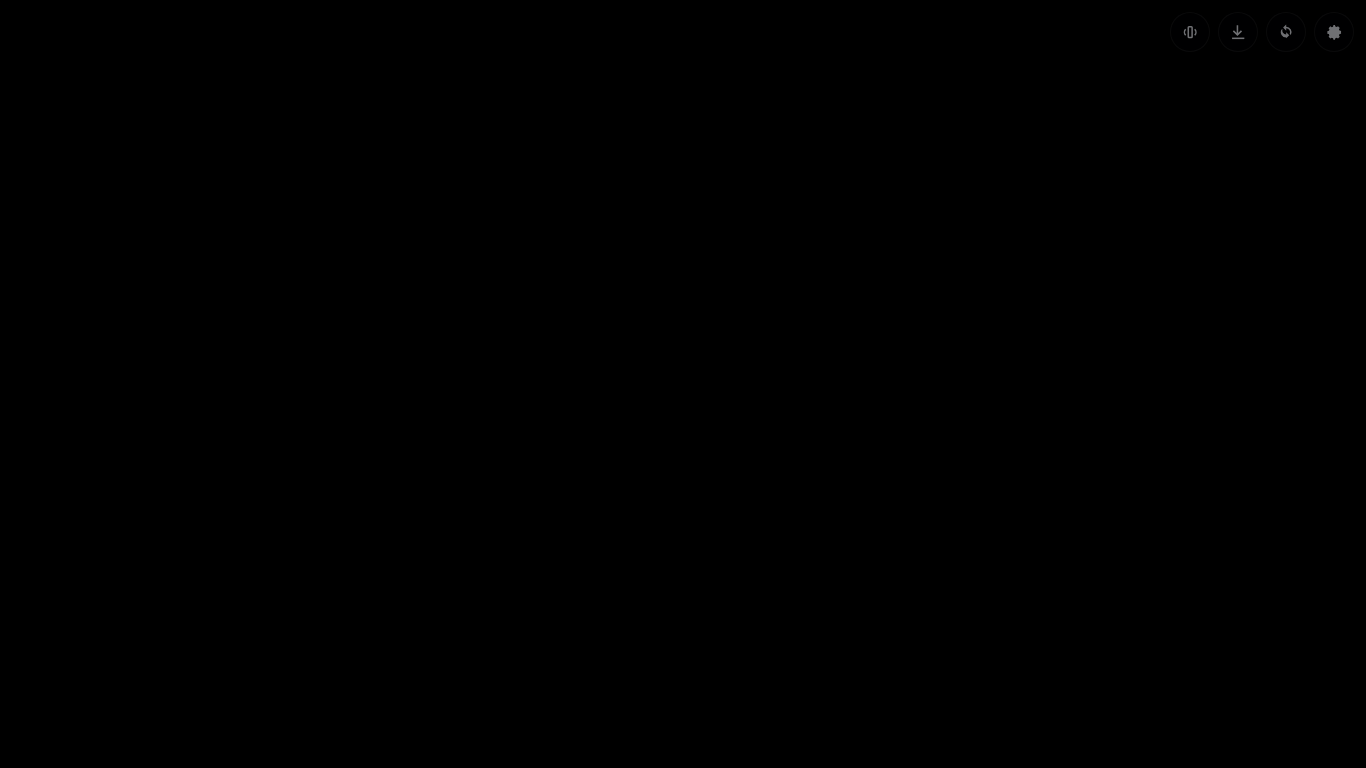
Test: App › closes on Escape and hands the focus back
Click the button named "controls" at [1334, 32], box [1314,12,1354,52]
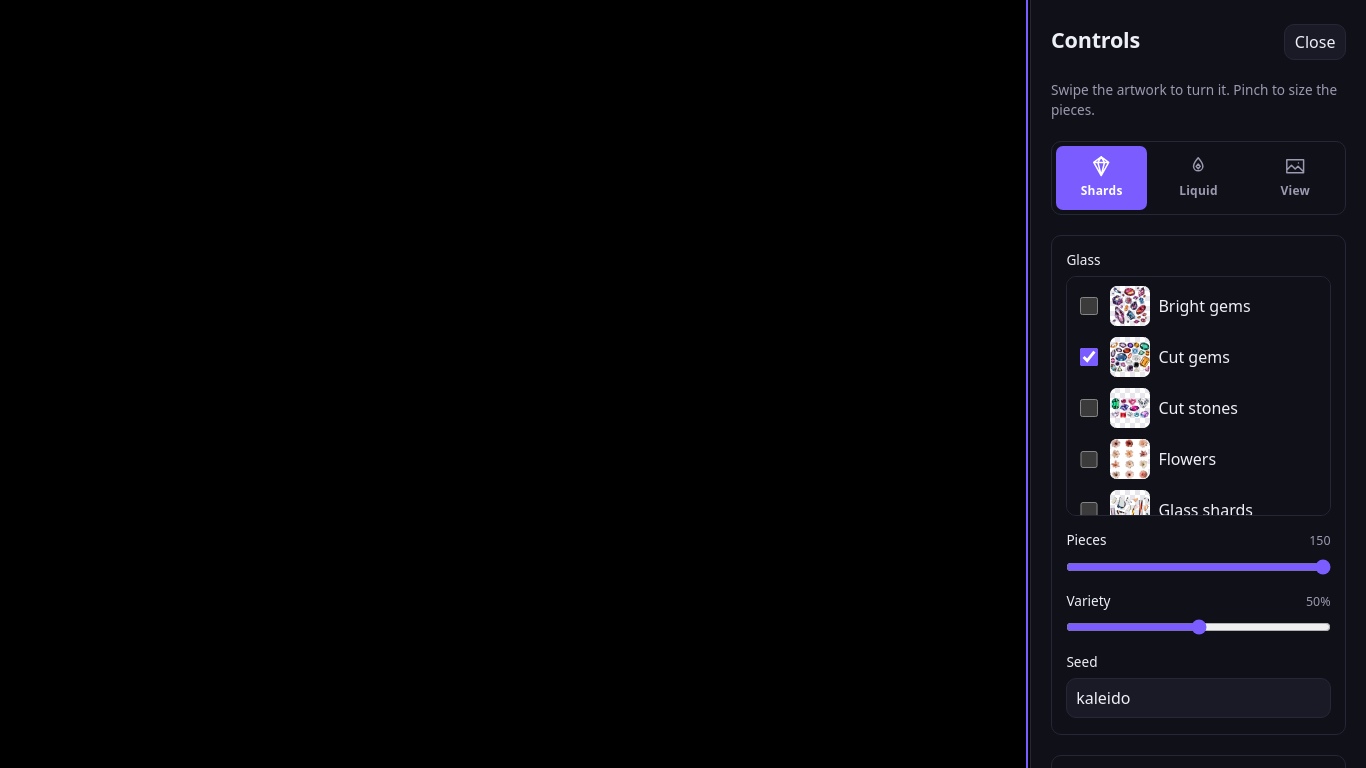
Press Escape
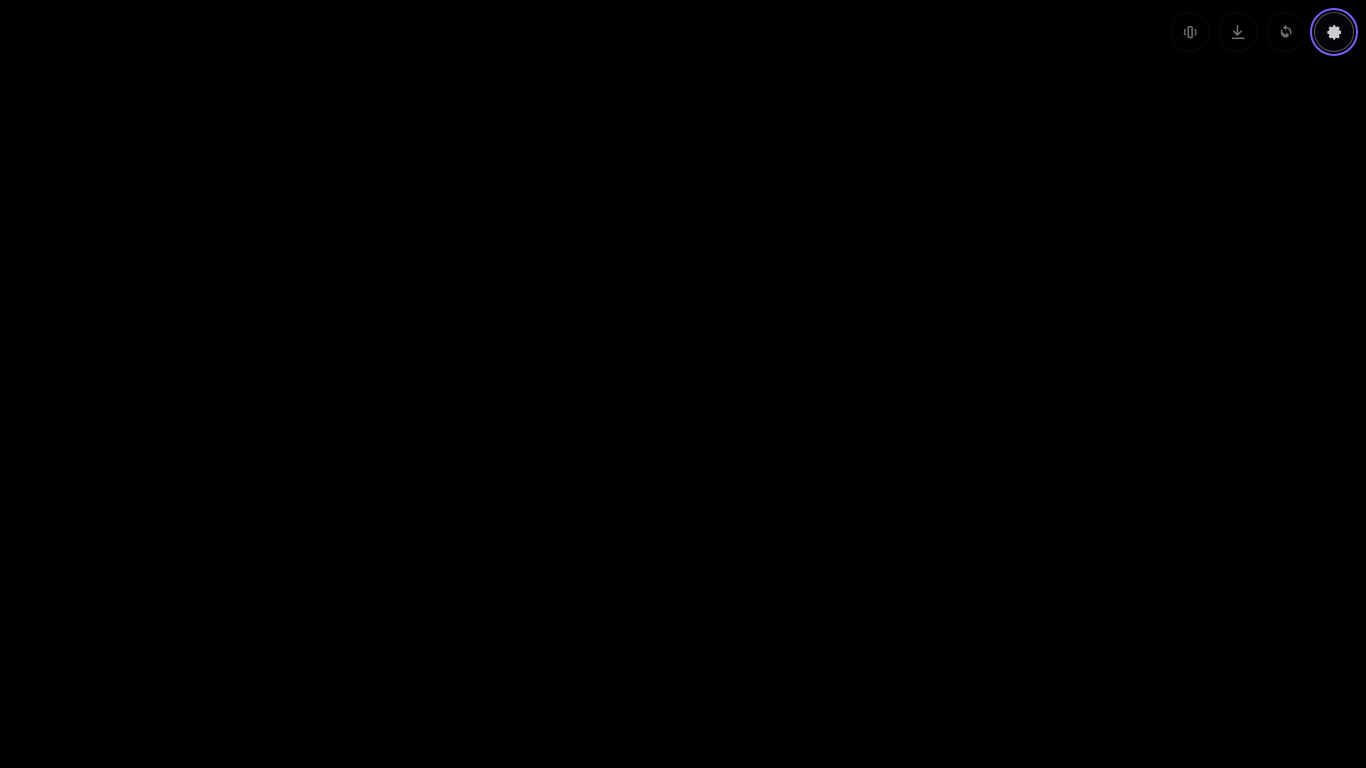
expect the button named "controls" is collapsed: met, box [1314,12,1354,52]
